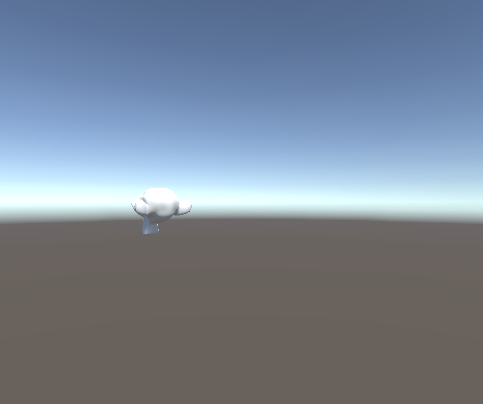monkey: (130, 187, 194, 236)
